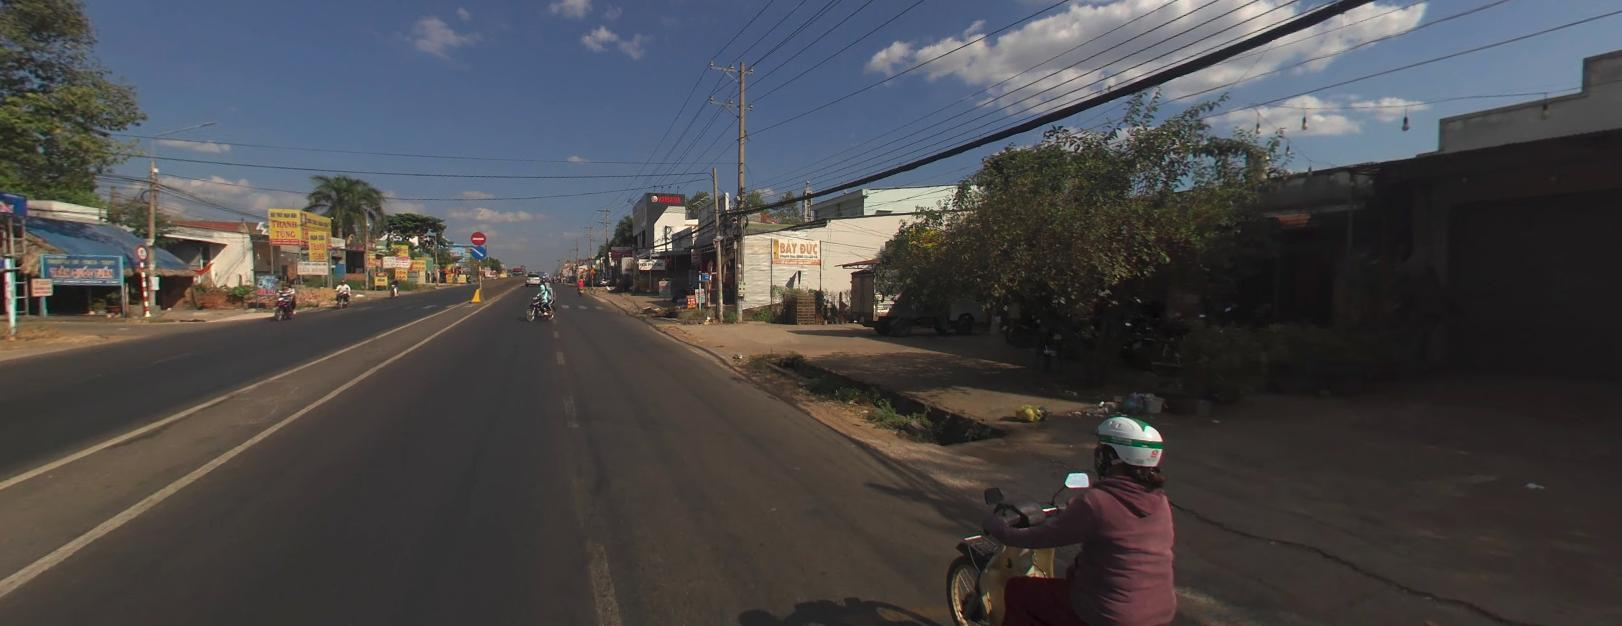Cam nguoc chieu: (470, 230, 485, 243)
Hieu lenh: (470, 244, 486, 257)
Nguy hiem: (589, 266, 596, 272), (581, 266, 585, 270)
